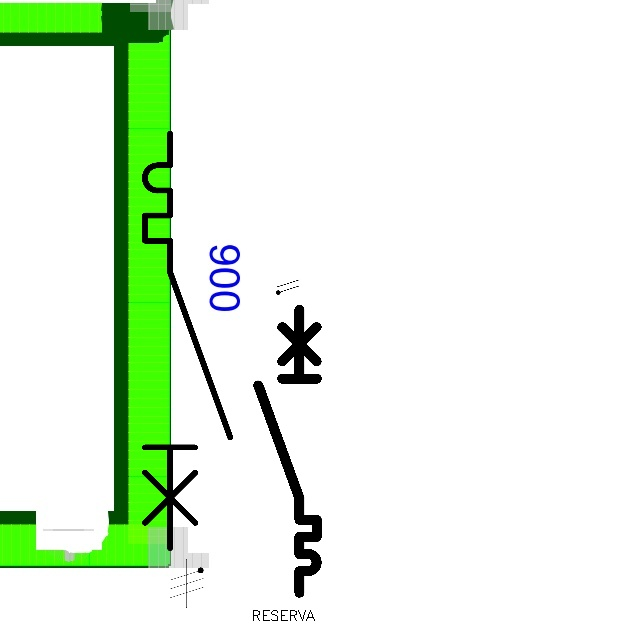interruptor_termomagnetico: (134, 123, 240, 559), (251, 302, 324, 599)
